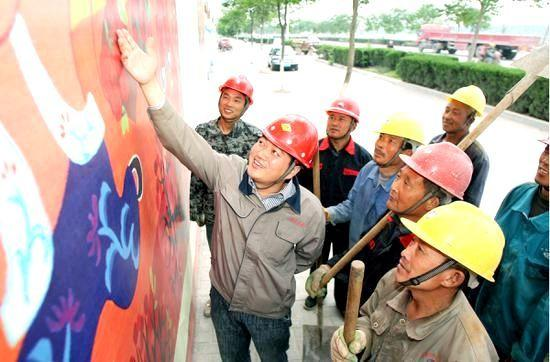helmet: (400, 202, 507, 285), (398, 142, 475, 198), (264, 116, 317, 170), (378, 117, 424, 146), (450, 85, 489, 117), (220, 76, 255, 107), (326, 100, 361, 124)
